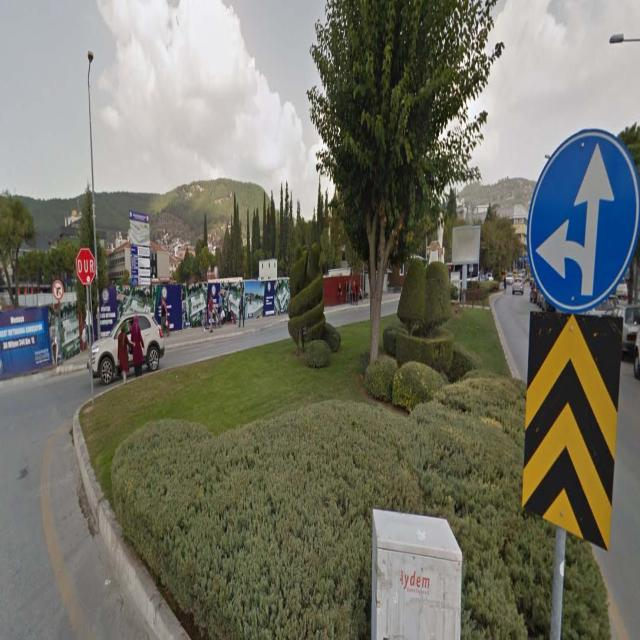dur: (76, 247, 96, 285)
ilerisol: (527, 129, 639, 310)
sagadonulmez: (52, 280, 64, 301)
